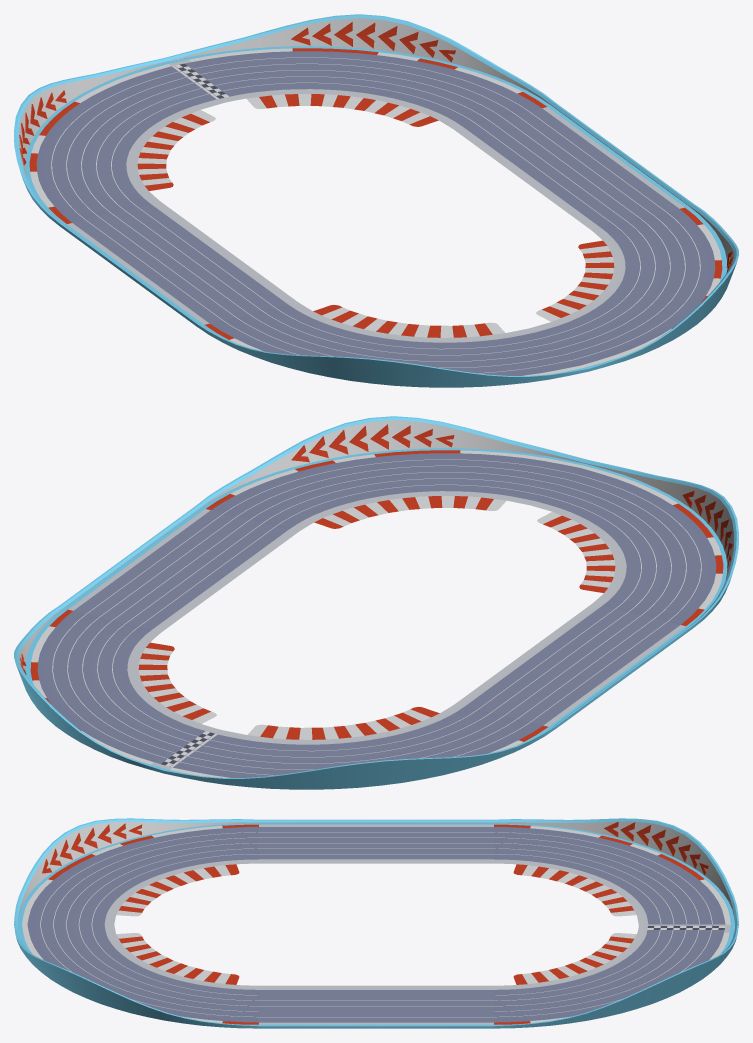
Rendered from RaceTrack.FBX.
3 renders of one model, top to bottom at view 1: azimuth 30°, elevation 25°; view 2: azimuth 150°, elevation 25°; view 3: azimuth 270°, elevation 25°, orthographic. The views are drawn at different scales.
Parts seen in each view (by area): view 1: RaceTrack; view 2: RaceTrack; view 3: RaceTrack.
Part boxes in pixels (box(x1,y1,x2,y2)): RaceTrack: box(14, 14, 738, 387); RaceTrack: box(14, 416, 738, 789); RaceTrack: box(14, 818, 738, 1028).
Bounding box in the file's own units: 7965 × 438 × 11815.
